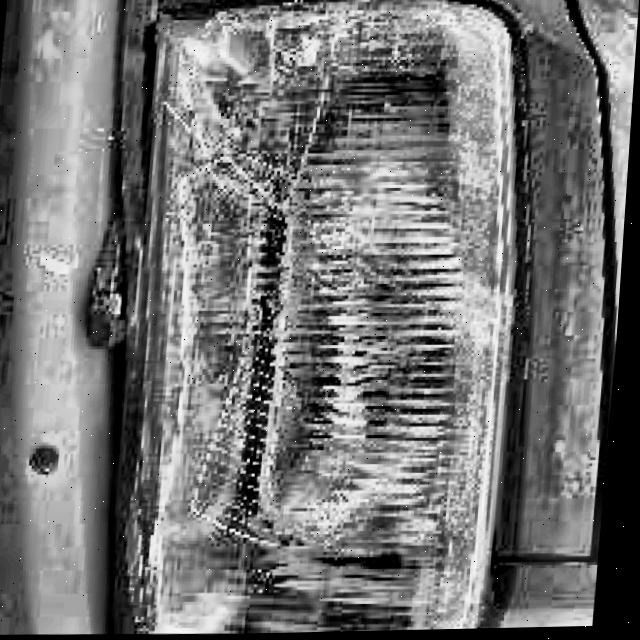head_lamp: (138, 82, 397, 509)
